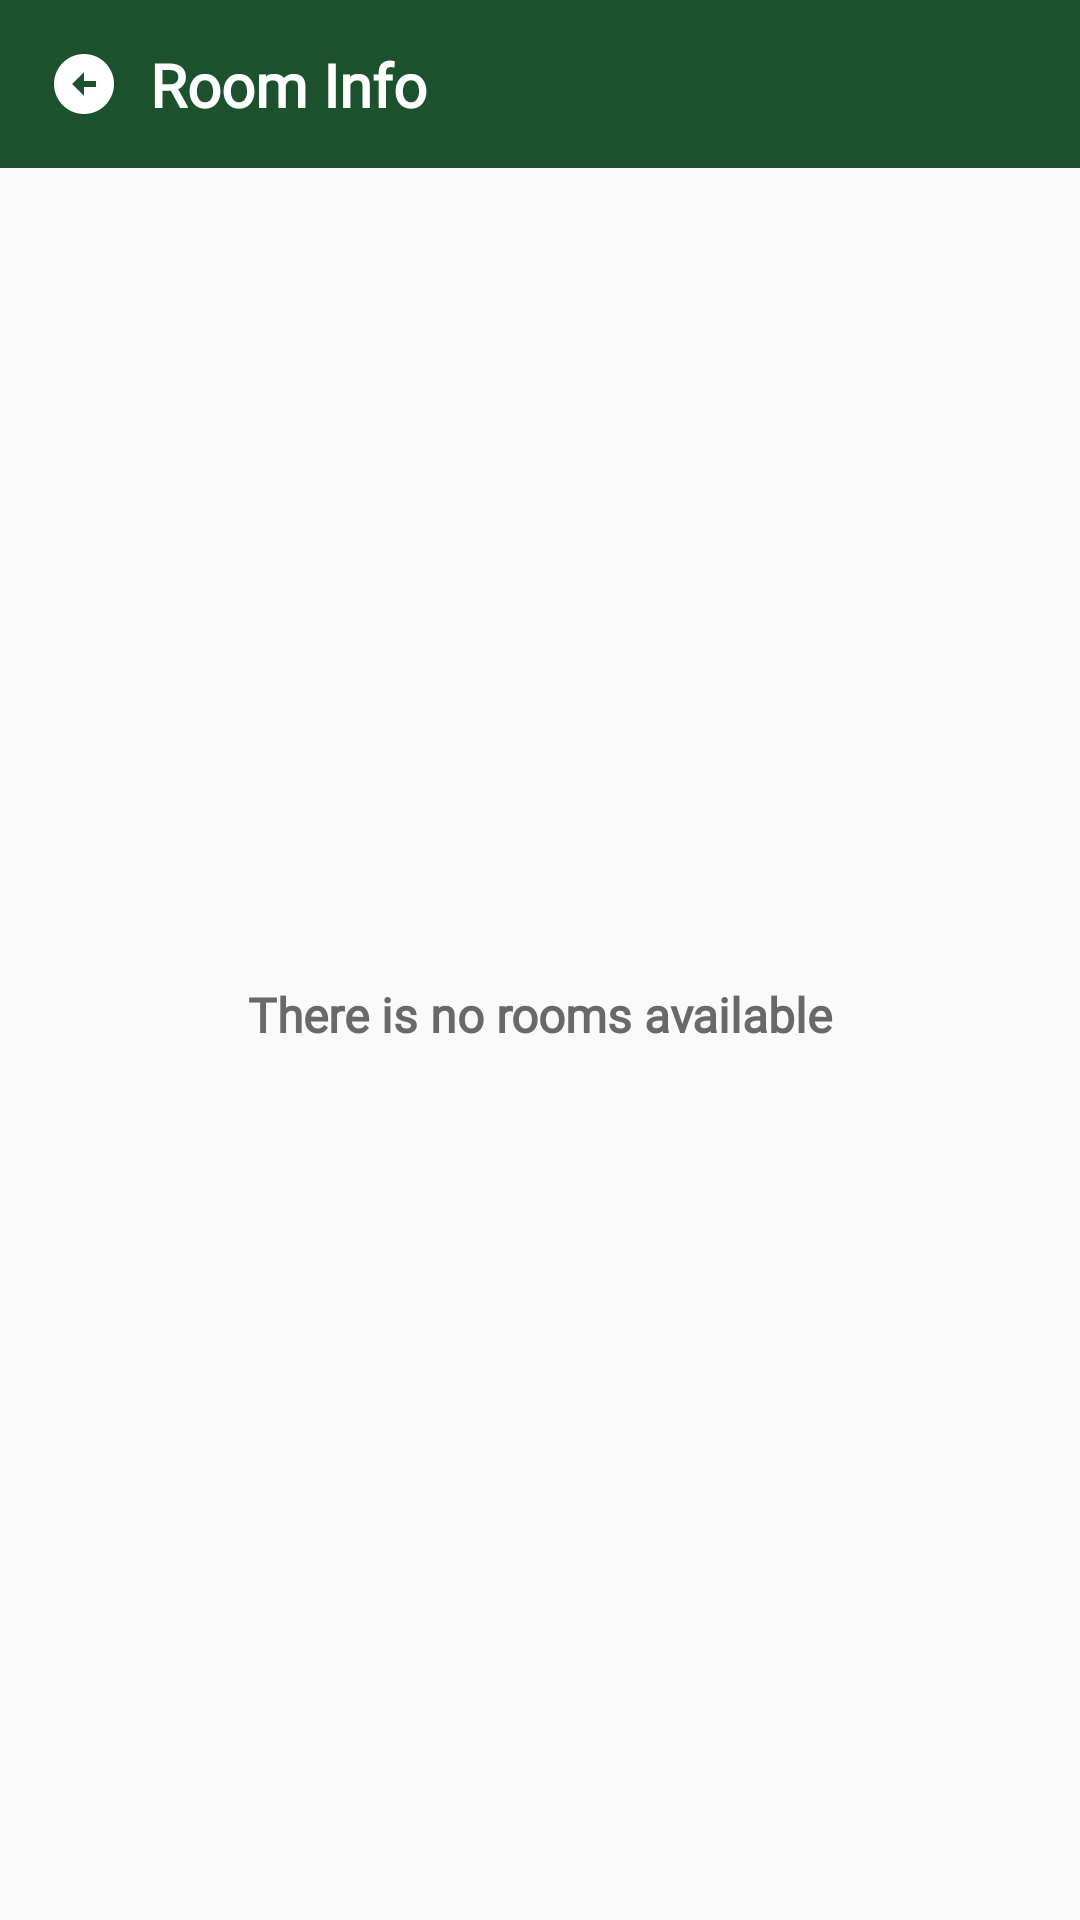

Point at icon controls on the screen. Image size 1080×1920, points as [x,y].
back arrow: [84,84]
